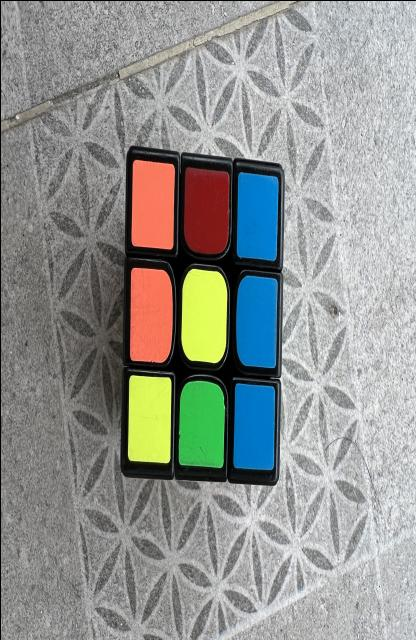Blue: (236, 275, 277, 367), (232, 382, 274, 470), (236, 172, 277, 260)
Green: (178, 380, 224, 467)
Orange: (129, 267, 171, 362), (131, 158, 174, 248)
Red: (183, 167, 228, 253)
Yellow: (180, 267, 227, 363), (127, 373, 171, 463)
